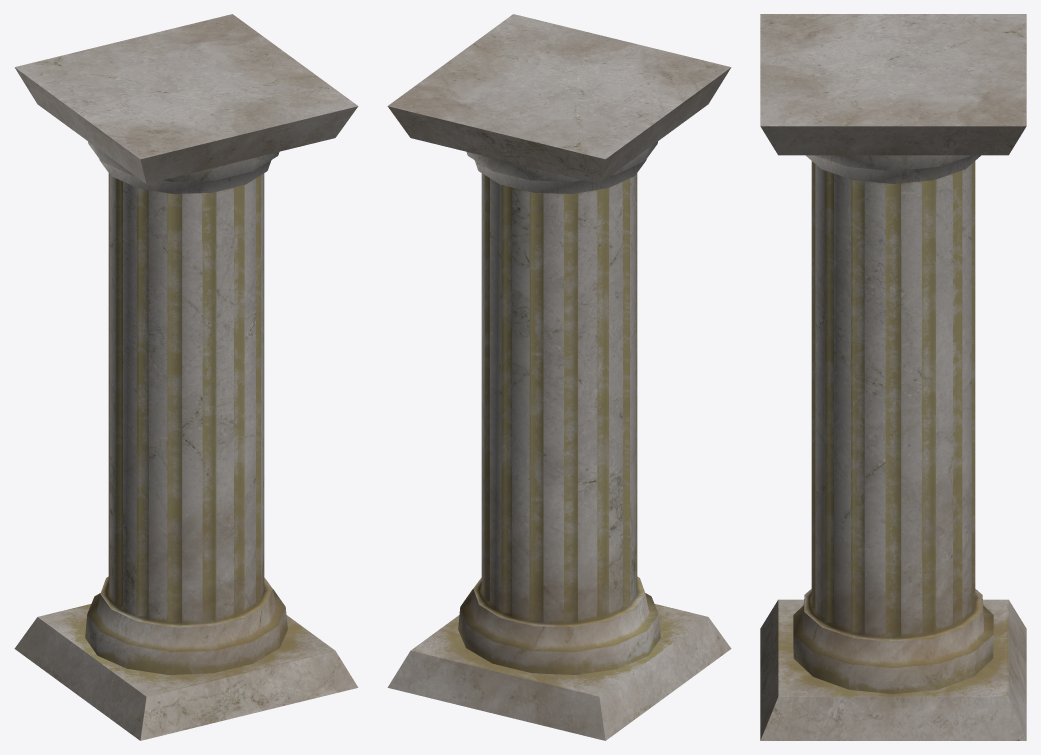
Rendered from Pillar big.fbx.
3 renders of one model, left to right at view 1: azimuth 30°, elevation 25°; view 2: azimuth 150°, elevation 25°; view 3: azimuth 270°, elevation 25°, orthographic. The views are drawn at different scales.
Parts seen in each view (by area): view 1: pillar_single; view 2: pillar_single; view 3: pillar_single.
Boxes of the visible parts, bbox=[...] form: pillar_single: bbox=[14, 14, 358, 740]; pillar_single: bbox=[387, 14, 731, 740]; pillar_single: bbox=[760, 14, 1026, 740].
Bounding box in the file's own units: 105 × 268 × 105.
